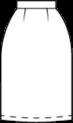Hemline: (0, 118, 72, 122)
Waistline: (16, 7, 55, 9), (17, 0, 54, 1)
